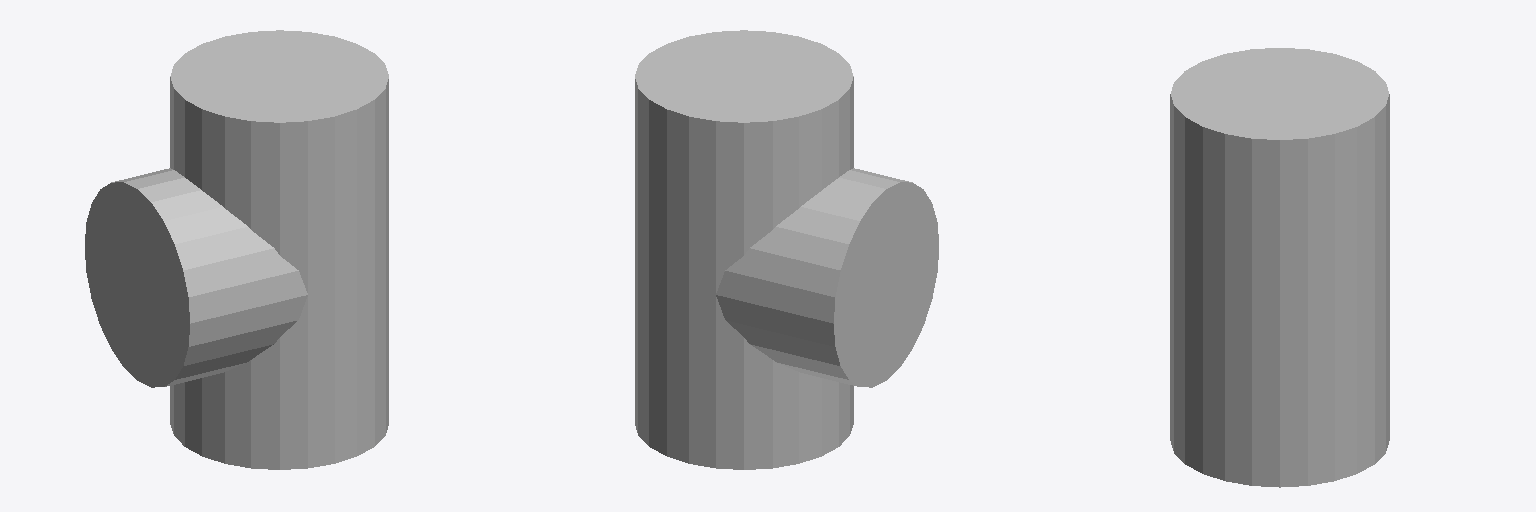
File: Axis5.obj
The picture shows the model from 3 angles: view 1: azimuth 30°, elevation 25°; view 2: azimuth 150°, elevation 25°; view 3: azimuth 270°, elevation 25°; orthographic projection.
Visible parts, largest first — view 1: Mesh1 Group1 Model, Mesh2 Group1 Model; view 2: Mesh1 Group1 Model, Mesh2 Group1 Model; view 3: Mesh1 Group1 Model.
Part boxes in pixels (x1,y1,x2,y2): Mesh1 Group1 Model: (170, 30, 388, 469); Mesh2 Group1 Model: (85, 168, 307, 387); Mesh1 Group1 Model: (635, 30, 853, 469); Mesh2 Group1 Model: (716, 168, 938, 387); Mesh1 Group1 Model: (1170, 48, 1389, 487).
Bounding box in the file's own units: 0.05 × 0.07 × 0.04.